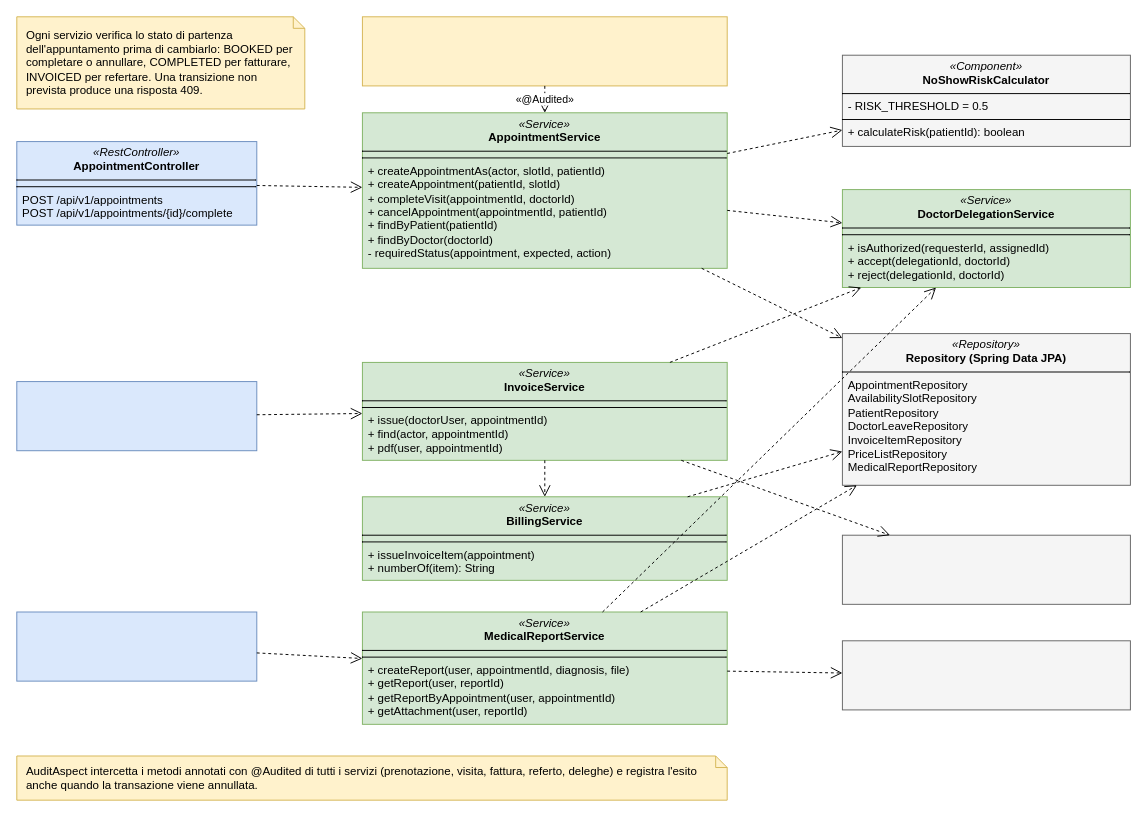
The diagram is 1147 pixels wide and 817 high, and some of its shapes have lost their labels. The shapes that lost their labels are listed below. From the top down, each one's box as (x1, y1, x2, y2) in pixels, then its label:
(361, 16, 727, 86): «Aspect» AuditAspect + audit(joinPoint): scrive audit_log (SUCCESS / FAILURE)
(16, 381, 257, 451): «RestController» InvoiceController POST /api/v1/appointments/{id}/invoice
(841, 534, 1130, 604): «Component» InvoicePdfGenerator genera il PDF della fattura (OpenPDF)
(16, 611, 257, 681): «RestController» MedicalReportController POST /api/v1/medical-reports
(841, 640, 1130, 710): AttachmentStorage salva e legge gli allegati dei referti sul volume dedicato
